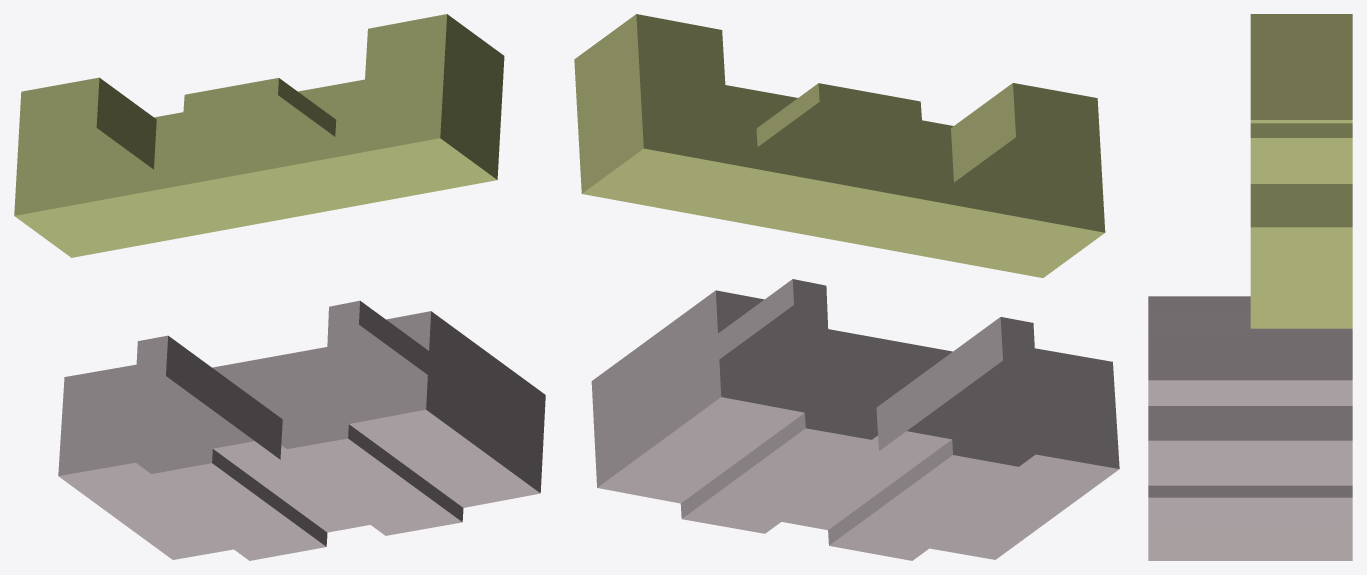
3 renders of one model, left to right at view 1: azimuth 30°, elevation 25°; view 2: azimuth 150°, elevation 25°; view 3: azimuth 270°, elevation 25°, orthographic. The views are drawn at different scales.
Visible parts, largest first — view 1: 0_3_2_0_2_1_2_3_3; view 2: 0_3_2_0_2_1_2_3_3; view 3: 0_3_2_0_2_1_2_3_3.
Boxes of the visible parts, <box> form: 0_3_2_0_2_1_2_3_3: <box>14,14,545,560</box>; 0_3_2_0_2_1_2_3_3: <box>574,14,1119,560</box>; 0_3_2_0_2_1_2_3_3: <box>1148,14,1352,560</box>.
Bounding box in the file's own units: 39.25 × 36.95 × 18.
